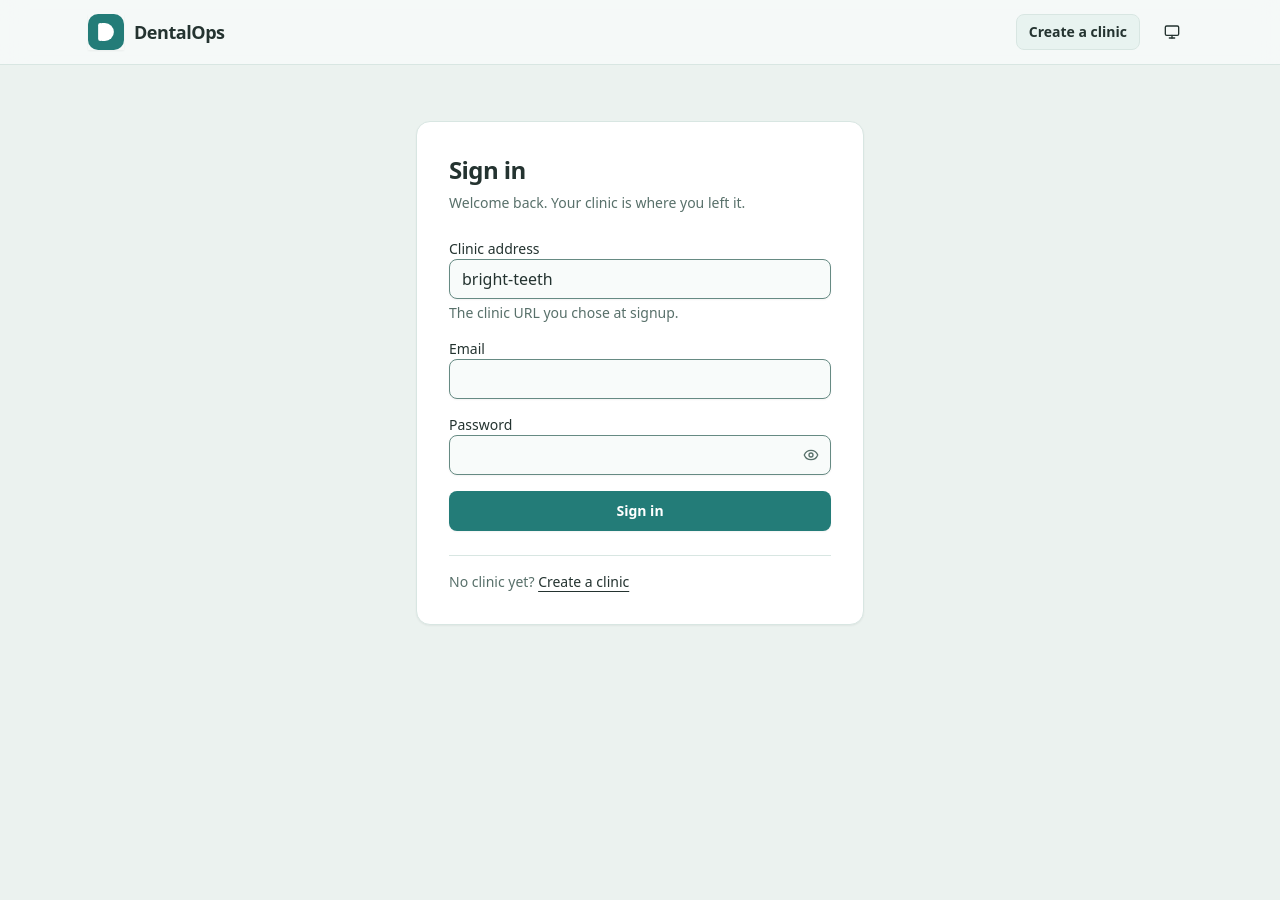
Test: LoginPage failure › shows one message that does not say whether the email or the password was wrong
The width and height of the screenshot is (1280, 900).
In the field labelled "Email": (640, 379) [449,359,831,399], type "owner@clinic.test"
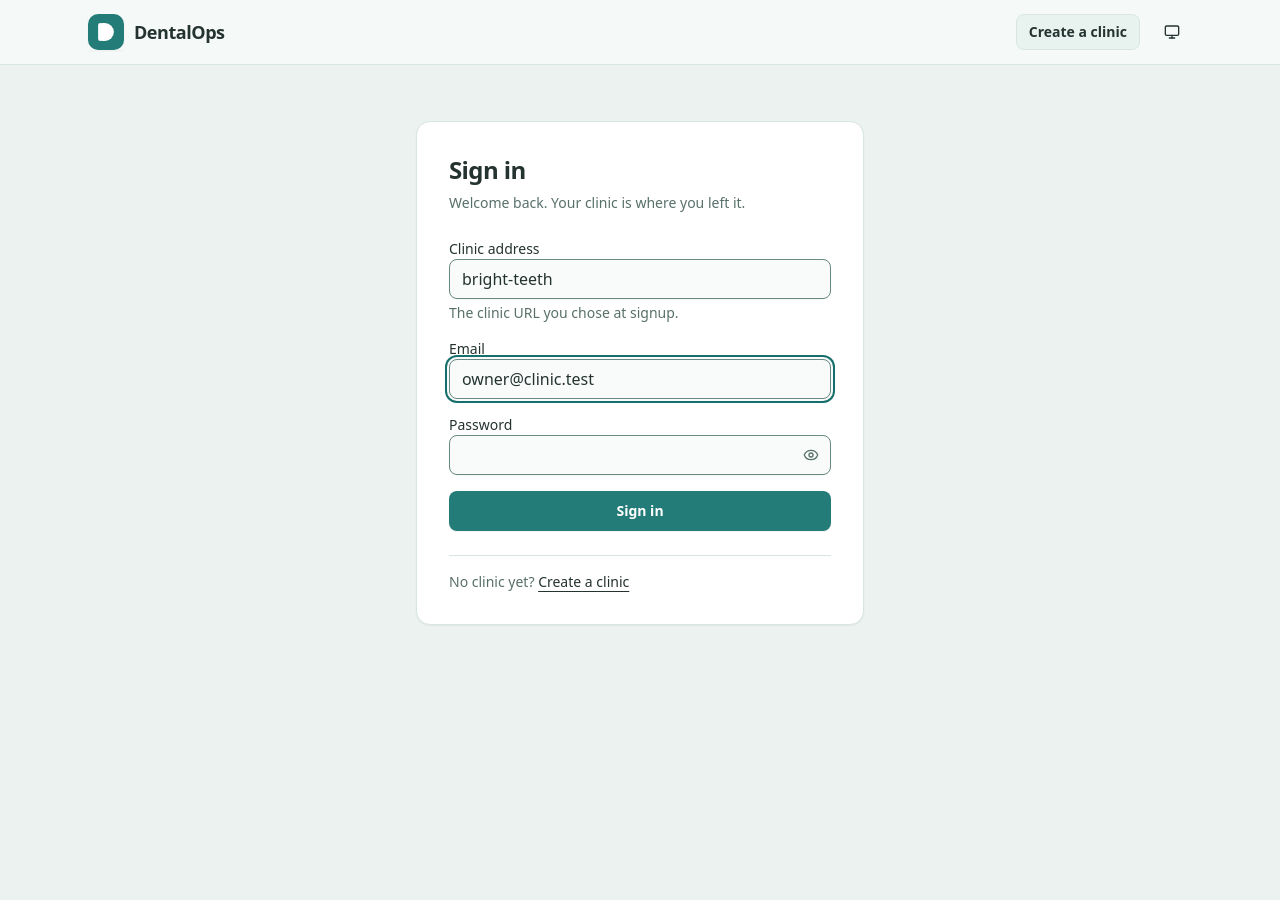
In the password field labelled "Password": (640, 455) [449,435,831,475], type "correct-horse"
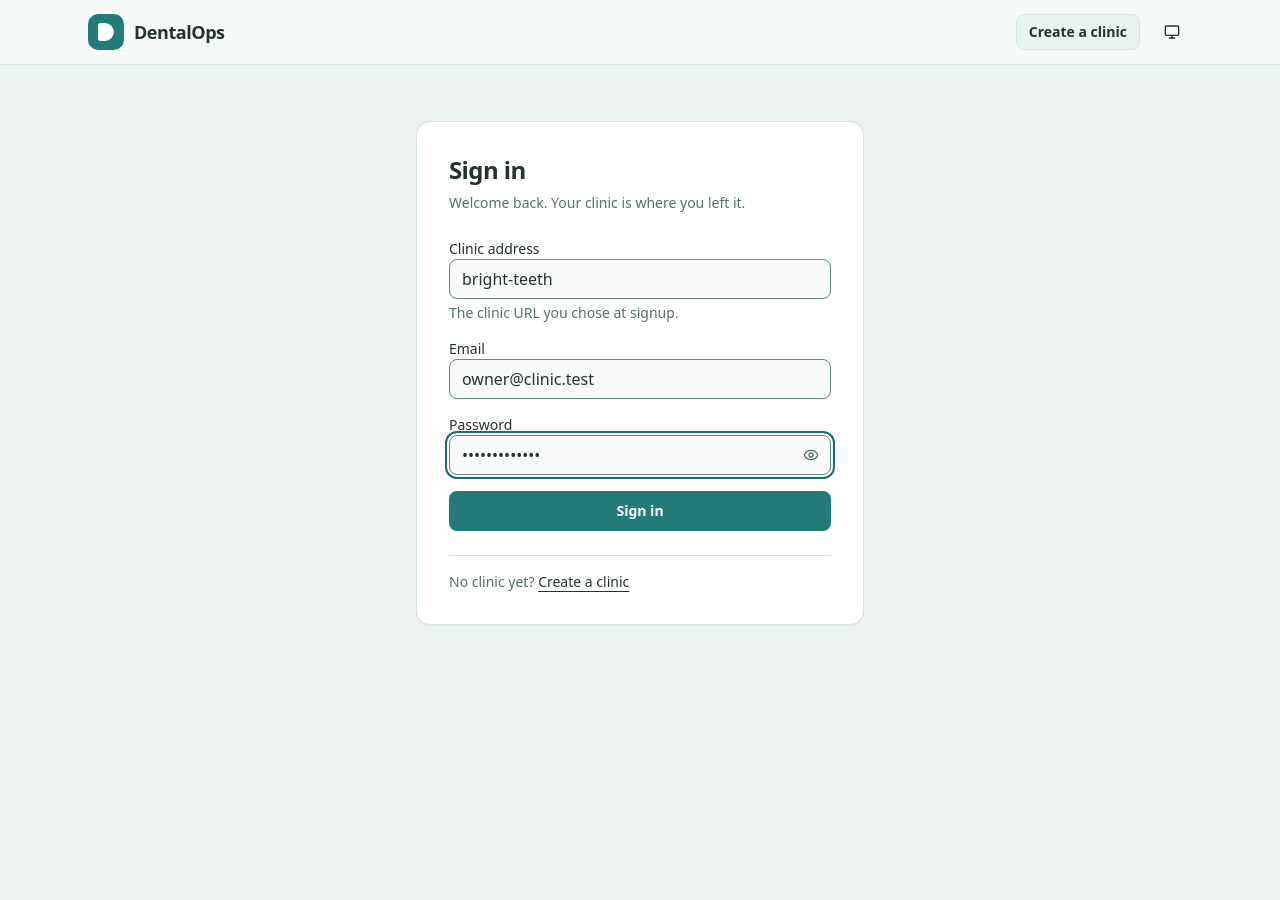
Click the button "Sign in": (640, 511) [449,491,831,531]
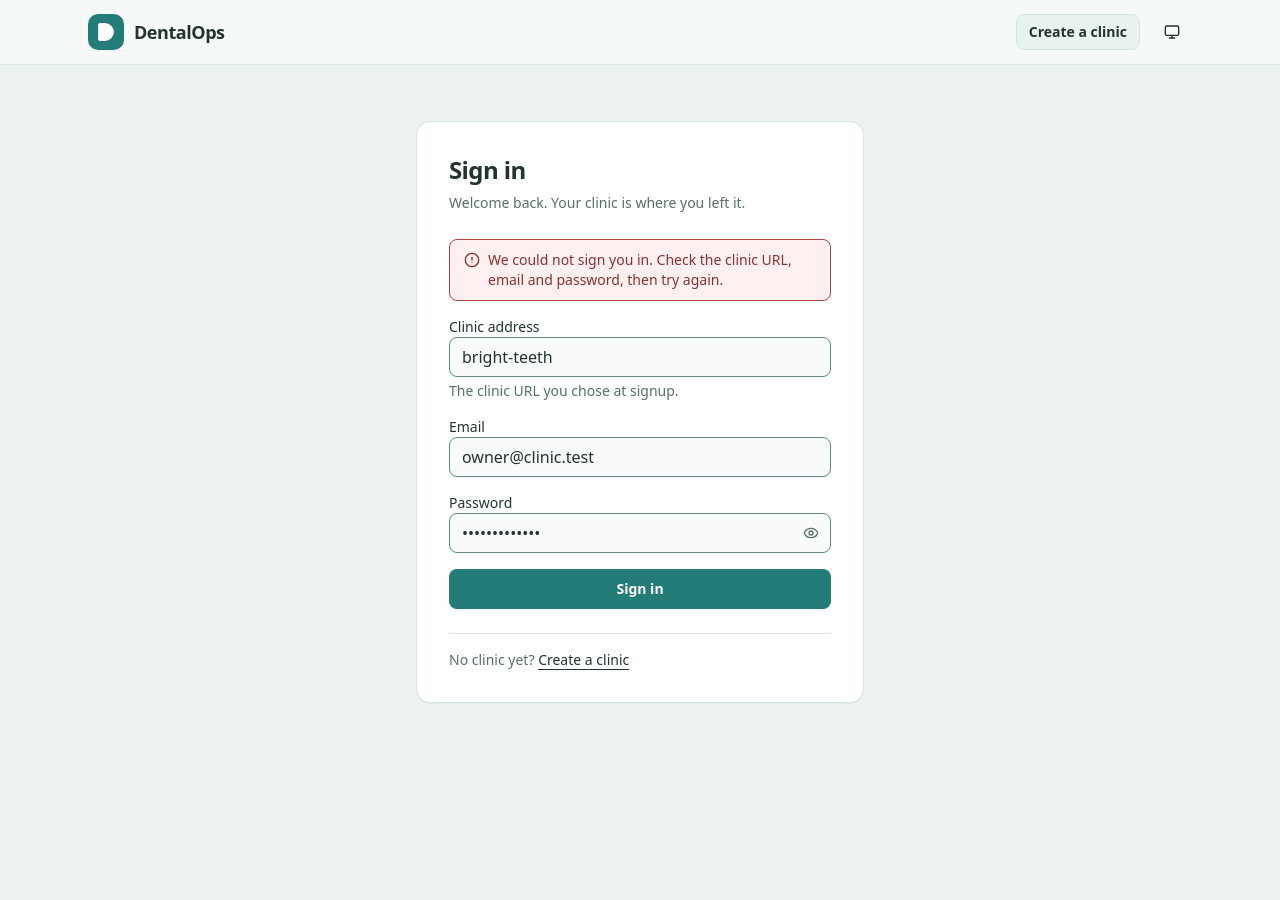
Expected: the number of messages is 1, [449,239,831,301]
Expected: the message shows "We could not sign you in. Check the clinic URL, email and password, then try again.", [488,250,792,289]
